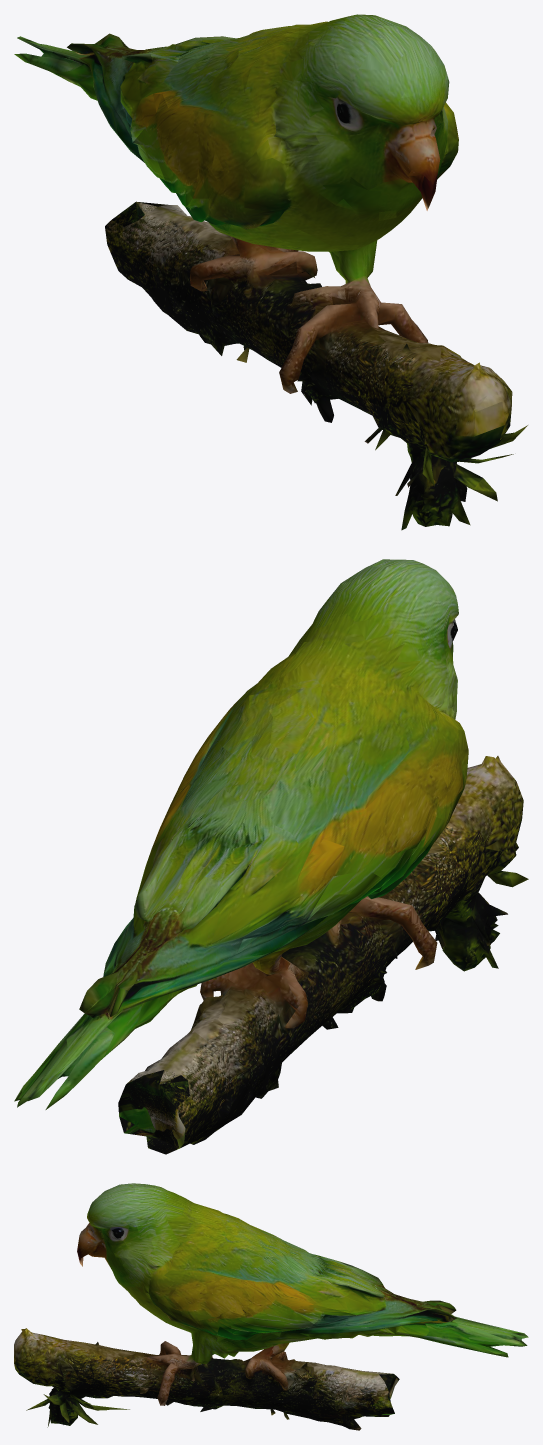
The model's file is periquito.glb.
The picture shows the model from 3 angles, top to bottom: view 1: azimuth 30°, elevation 25°; view 2: azimuth 150°, elevation 25°; view 3: azimuth 270°, elevation 25°; orthographic projection. The views are drawn at different scales.
Visible parts, largest first — view 1: tripo_node_b973310f; view 2: tripo_node_b973310f; view 3: tripo_node_b973310f.
Boxes of the visible parts, x1,y1,x2,y2 form: tripo_node_b973310f: (14,14,527,530); tripo_node_b973310f: (14,559,528,1154); tripo_node_b973310f: (14,1183,528,1430).
Bounding box in the file's own units: 0.2705 × 0.5103 × 0.9793.
Materials: 1 (1 with a texture image).
